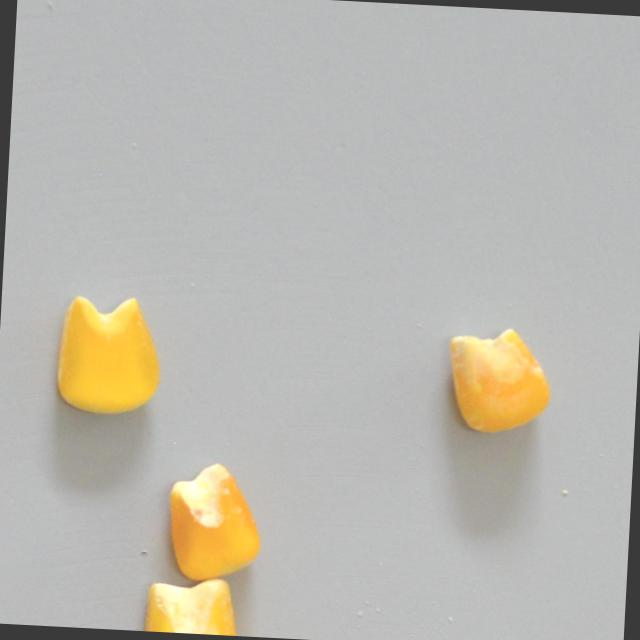no_canjicado: (54, 292, 164, 418), (163, 461, 266, 584), (145, 578, 243, 636)
pelicula: (445, 324, 556, 440)
